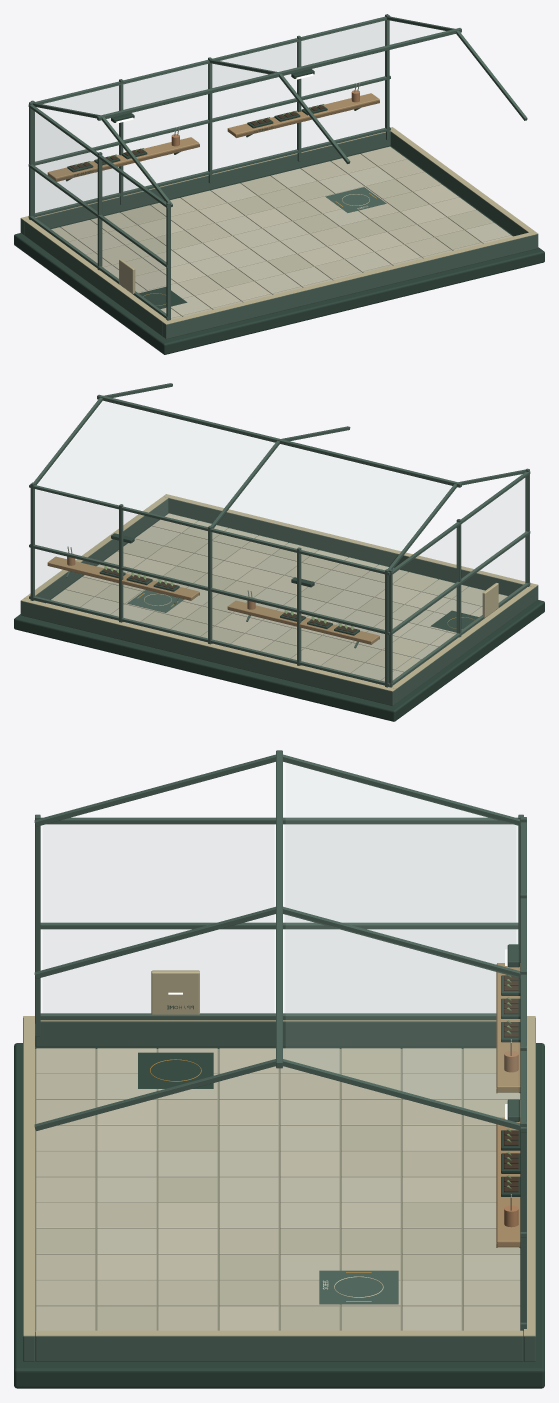
The model's file is environment.glb.
The picture shows the model from 3 angles, top to bottom: view 1: azimuth 30°, elevation 25°; view 2: azimuth 150°, elevation 25°; view 3: azimuth 270°, elevation 25°; orthographic projection. The views are drawn at different scales.
Parts seen in each view (by area): view 1: environment_Greenhouse_Root_GH_fern.002, environment_Greenhouse_Root_GH_stone-1.002, environment_static_GH_glazing.002, environment_Greenhouse_Root_GH_fern-dark.002, environment_Greenhouse_Root_GH_stone-2.002, environment_Greenhouse_Root_GH_stone-3.002, environment_Greenhouse_Root_GH_stone-0.002, environment_Greenhouse_Root_GH_stone-4.002, environment_Greenhouse_Root_GH_ivory-dark.002, environment_Greenhouse_Root_GH_wood.002, environment_Greenhouse_Root_GH_grout.002, environment_Greenhouse_Root_GH_wood-dark.002 (+1 smaller); view 2: environment_Greenhouse_Root_GH_fern.002, environment_Greenhouse_Root_GH_fern-dark.002, environment_Greenhouse_Root_GH_stone-1.002, environment_Greenhouse_Root_GH_stone-2.002, environment_Greenhouse_Root_GH_stone-3.002, environment_Greenhouse_Root_GH_stone-4.002, environment_Greenhouse_Root_GH_ivory-dark.002, environment_Greenhouse_Root_GH_stone-0.002, environment_Greenhouse_Root_GH_wood.002, environment_Greenhouse_Root_GH_grout.002, environment_Greenhouse_Root_GH_soil.002; view 3: environment_Greenhouse_Root_GH_fern.002, environment_static_GH_glazing.002, environment_Greenhouse_Root_GH_stone-1.002, environment_Greenhouse_Root_GH_fern-dark.002, environment_Greenhouse_Root_GH_stone-2.002, environment_Greenhouse_Root_GH_stone-0.002, environment_Greenhouse_Root_GH_stone-3.002, environment_Greenhouse_Root_GH_stone-4.002, environment_Greenhouse_Root_GH_ivory-dark.002, environment_Greenhouse_Root_GH_grout.002, environment_Greenhouse_Root_GH_wood.002, environment_Greenhouse_Root_GH_soil.002.
Boxes of the visible parts, box(x1,y1,x2,y2) form: environment_Greenhouse_Root_GH_fern.002: box(20, 14, 538, 339); environment_Greenhouse_Root_GH_stone-1.002: box(60, 166, 510, 315); environment_static_GH_glazing.002: box(35, 20, 384, 213); environment_Greenhouse_Root_GH_fern-dark.002: box(14, 69, 544, 354); environment_Greenhouse_Root_GH_stone-2.002: box(120, 176, 493, 288); environment_Greenhouse_Root_GH_stone-3.002: box(135, 184, 512, 318); environment_Greenhouse_Root_GH_stone-0.002: box(51, 146, 463, 319); environment_Greenhouse_Root_GH_stone-4.002: box(125, 159, 482, 316); environment_Greenhouse_Root_GH_ivory-dark.002: box(21, 127, 538, 324); environment_Greenhouse_Root_GH_wood.002: box(47, 93, 379, 180); environment_Greenhouse_Root_GH_grout.002: box(60, 154, 482, 316); environment_Greenhouse_Root_GH_wood-dark.002: box(55, 100, 379, 181); environment_Greenhouse_Root_GH_fern.002: box(20, 383, 538, 705); environment_Greenhouse_Root_GH_fern-dark.002: box(14, 513, 544, 721); environment_Greenhouse_Root_GH_stone-1.002: box(81, 526, 480, 683); environment_Greenhouse_Root_GH_stone-2.002: box(95, 533, 403, 669); environment_Greenhouse_Root_GH_stone-3.002: box(82, 513, 482, 665); environment_Greenhouse_Root_GH_stone-4.002: box(51, 521, 484, 662); environment_Greenhouse_Root_GH_ivory-dark.002: box(20, 494, 537, 691); environment_Greenhouse_Root_GH_stone-0.002: box(46, 546, 507, 685); environment_Greenhouse_Root_GH_wood.002: box(47, 556, 379, 644); environment_Greenhouse_Root_GH_grout.002: box(80, 521, 482, 683); environment_Greenhouse_Root_GH_soil.002: box(102, 568, 357, 632); environment_Greenhouse_Root_GH_fern.002: box(23, 750, 535, 1361); environment_static_GH_glazing.002: box(285, 824, 516, 1013); environment_Greenhouse_Root_GH_stone-1.002: box(97, 1048, 520, 1330); environment_Greenhouse_Root_GH_fern-dark.002: box(14, 944, 544, 1388); environment_Greenhouse_Root_GH_stone-2.002: box(36, 1125, 520, 1330); environment_Greenhouse_Root_GH_stone-0.002: box(36, 1048, 520, 1330); environment_Greenhouse_Root_GH_stone-3.002: box(97, 1048, 461, 1330); environment_Greenhouse_Root_GH_stone-4.002: box(36, 1074, 461, 1330); environment_Greenhouse_Root_GH_ivory-dark.002: box(23, 970, 535, 1336); environment_Greenhouse_Root_GH_grout.002: box(35, 1049, 463, 1331); environment_Greenhouse_Root_GH_wood.002: box(496, 963, 520, 1247); environment_Greenhouse_Root_GH_soil.002: box(504, 975, 518, 1192).
Size of the model in its own units: 6.35 by 2.89 by 4.35.
